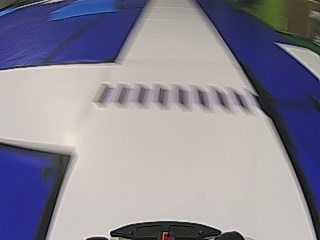CrossWalk: (92, 85, 250, 111)
